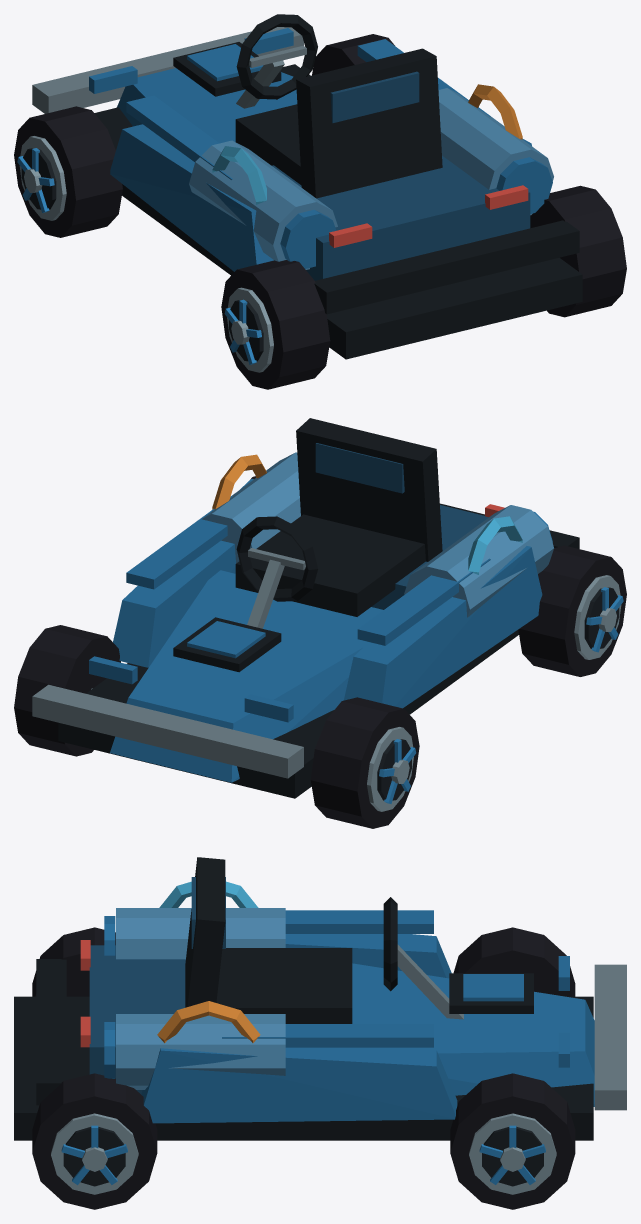
Rendered from kart.glb.
The picture shows the model from 3 angles, top to bottom: view 1: azimuth 30°, elevation 25°; view 2: azimuth 150°, elevation 25°; view 3: azimuth 270°, elevation 25°; orthographic projection.
Visible parts, largest first — view 1: chassis, wheel-rear-left, wheel-front-left, wheel-rear-right, wheel-front-right; view 2: chassis, wheel-front-left, wheel-rear-left, wheel-front-right; view 3: chassis, wheel-front-right, wheel-rear-right, wheel-front-left, wheel-rear-left.
Part boxes in pixels (<box>): chassis: <box>32,14,582,359</box>; wheel-rear-left: <box>221,260,330,389</box>; wheel-front-left: <box>14,106,122,237</box>; wheel-rear-right: <box>530,185,626,317</box>; wheel-front-right: <box>312,34,394,75</box>; chassis: <box>32,418,579,798</box>; wheel-front-left: <box>310,697,419,828</box>; wheel-rear-left: <box>518,545,626,676</box>; wheel-front-right: <box>14,625,120,756</box>; chassis: <box>14,857,626,1140</box>; wheel-front-right: <box>450,1073,575,1209</box>; wheel-rear-right: <box>32,1073,157,1209</box>; wheel-front-left: <box>453,927,575,996</box>; wheel-rear-left: <box>32,927,115,996</box>.
Size of the model in its own units: 2.15 by 1.3 by 3.03.
